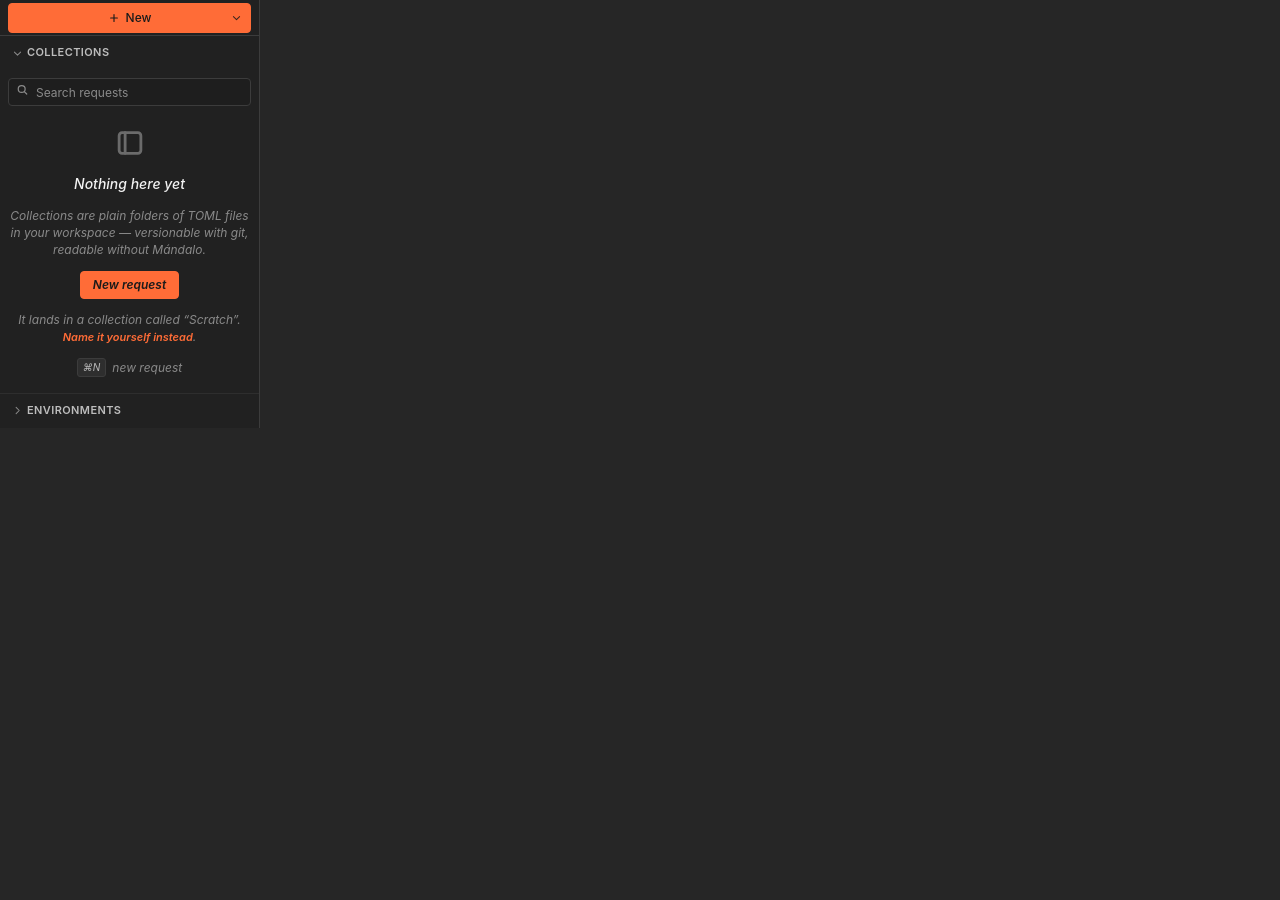
Scenario: Sidebar › still offers naming the first collection yourself
Click the button "Name it yourself instead". click: (128, 338)
box: [63,330,193,346]
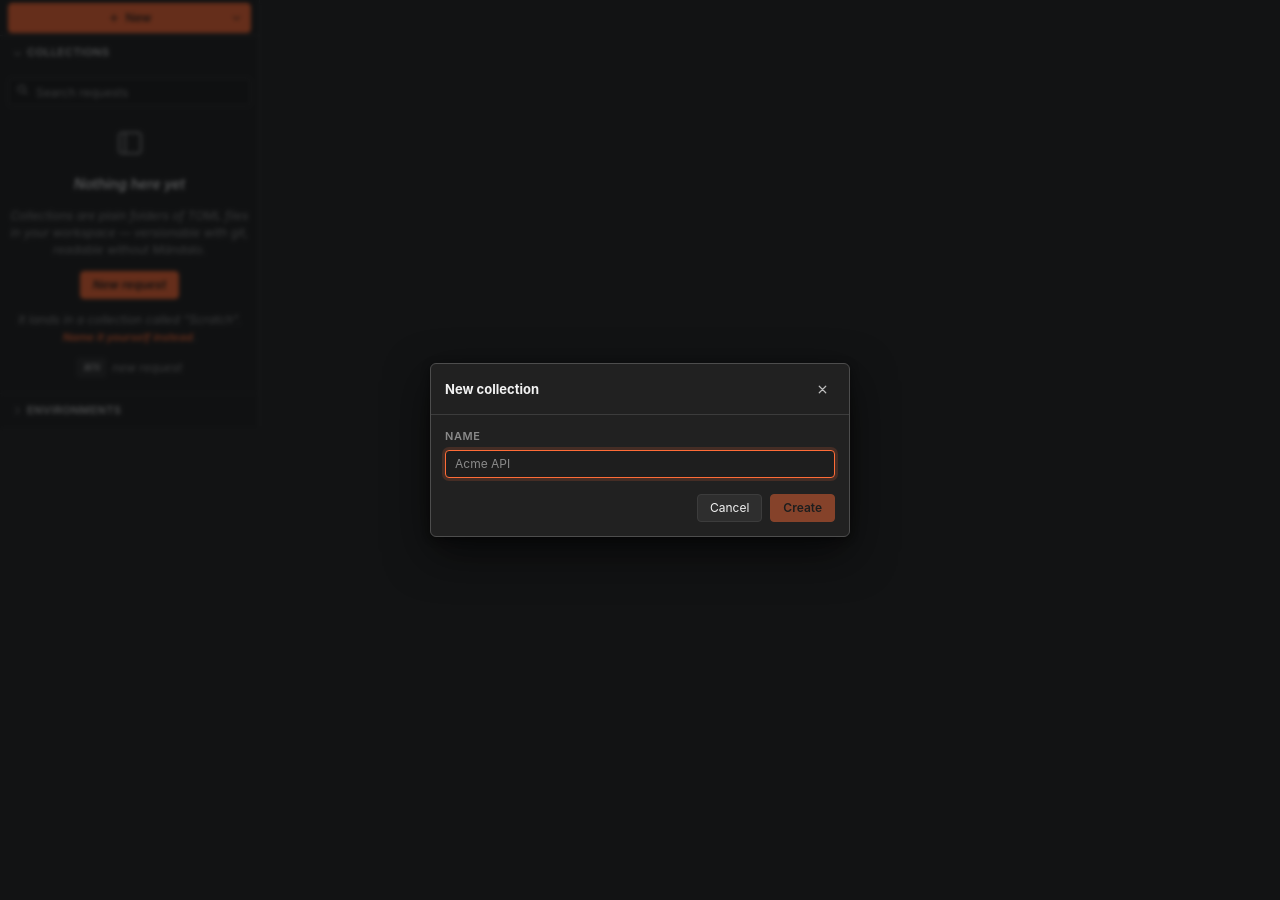
Check: the heading "New collection" is shown, box [445,380,539,398]
